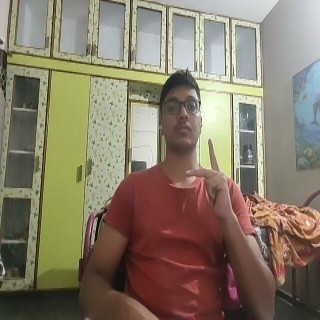Face: (158, 70, 203, 155)
Okay: (182, 137, 233, 222)
